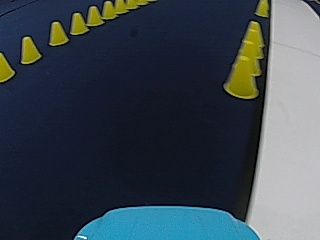cone: (223, 25, 262, 98), (240, 21, 264, 60), (19, 35, 40, 63), (48, 21, 68, 45), (69, 12, 88, 35), (0, 52, 15, 81), (86, 5, 102, 26), (101, 0, 116, 19), (249, 56, 261, 75), (254, 0, 268, 16), (115, 0, 125, 14)
